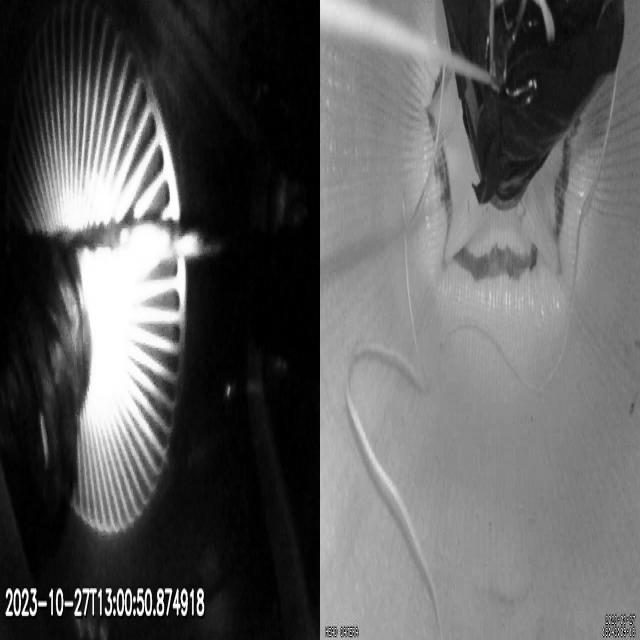red-circle: (426, 70, 578, 276)
